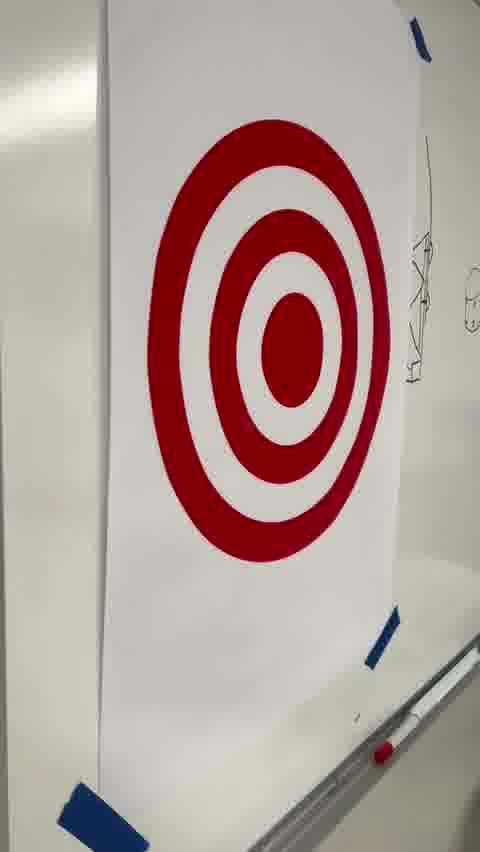target_red: (146, 119, 390, 563)
